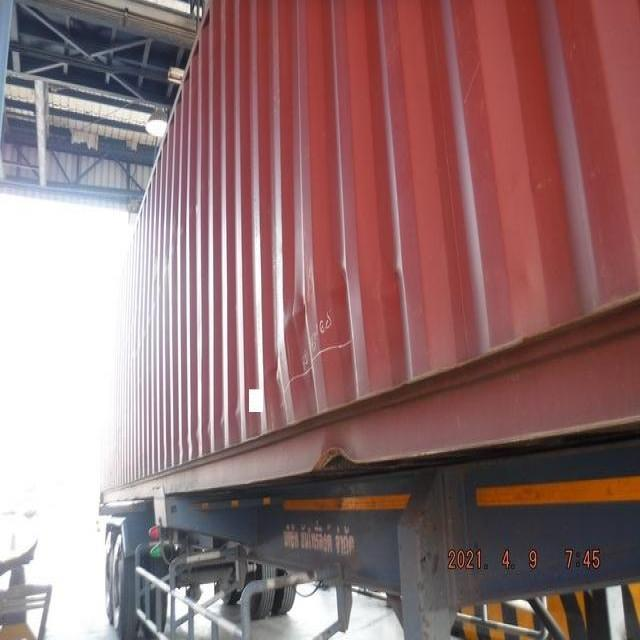Dent: (257, 248, 371, 383)
Minor-Dent: (354, 241, 419, 316)
